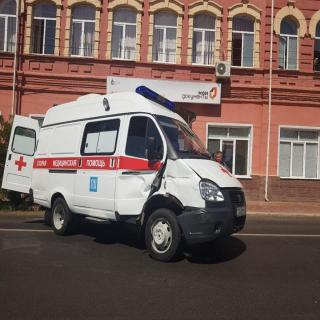Ambulance: (0, 72, 268, 288)
